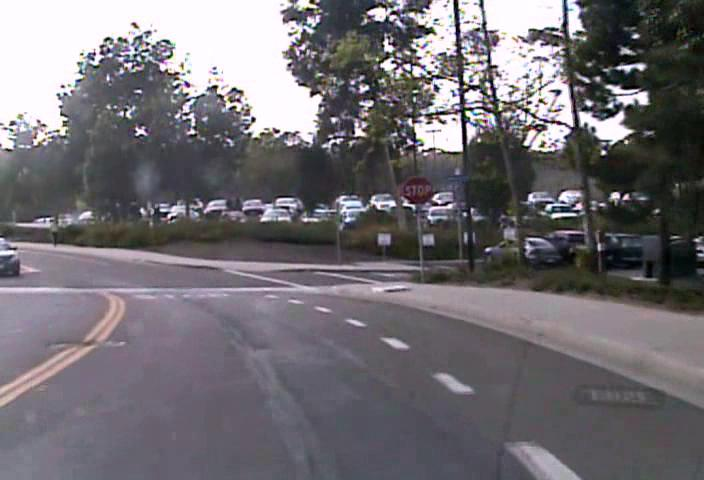stop: (400, 174, 433, 205)
